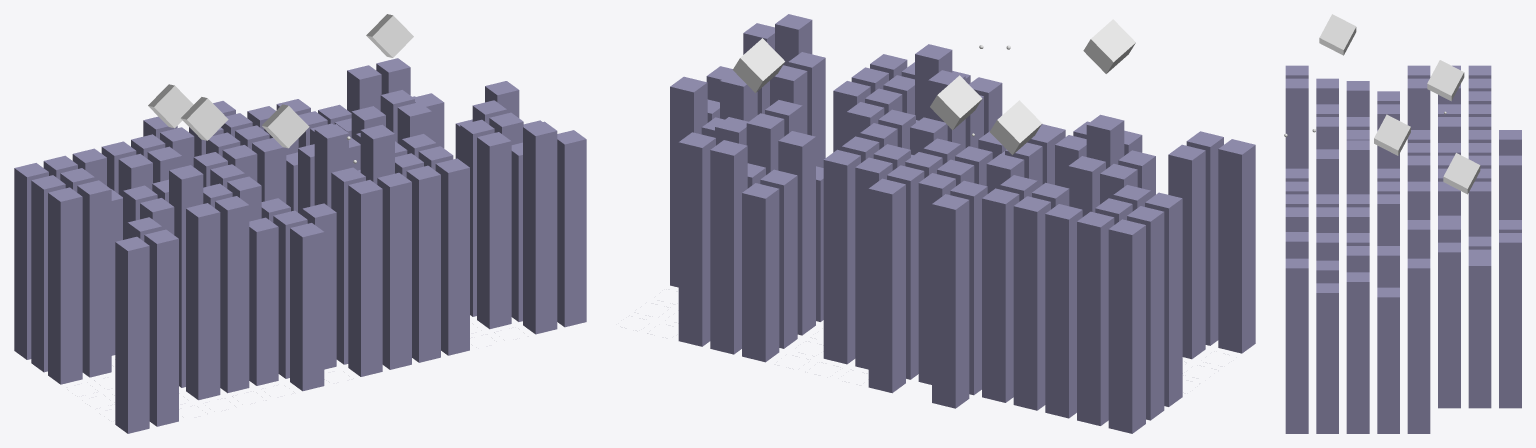
The model's file is ps2_bake_bolas.glb.
3 views of the same model, side by side, from view 1: azimuth 30°, elevation 25°; view 2: azimuth 150°, elevation 25°; view 3: azimuth 270°, elevation 25° (orthographic). The views are drawn at different scales.
Visible parts, largest first — view 1: Grid, Cube.004, Cube.002, Cube.003, Cube.001; view 2: Grid, Cube.003, Cube.001, Cube.002, Cube.004; view 3: Grid, Cube.001, Cube.002, Cube.003, Cube.004.
Boxes of the visible parts, bbox=[...] form: Grid: bbox=[14, 58, 586, 433]; Cube.004: bbox=[262, 104, 309, 148]; Cube.002: bbox=[366, 14, 413, 57]; Cube.003: bbox=[181, 97, 228, 140]; Cube.001: bbox=[148, 84, 193, 128]; Grid: bbox=[647, 14, 1255, 433]; Cube.003: bbox=[1083, 19, 1135, 73]; Cube.001: bbox=[990, 100, 1042, 154]; Cube.002: bbox=[733, 38, 785, 92]; Cube.004: bbox=[930, 75, 982, 130]; Grid: bbox=[1285, 65, 1521, 433]; Cube.001: bbox=[1427, 60, 1464, 101]; Cube.002: bbox=[1443, 153, 1480, 194]; Cube.003: bbox=[1319, 14, 1356, 55]; Cube.004: bbox=[1374, 114, 1410, 155].
Size of what is drawn, in the model's own units: 10.5 by 6.38 by 5.2.
